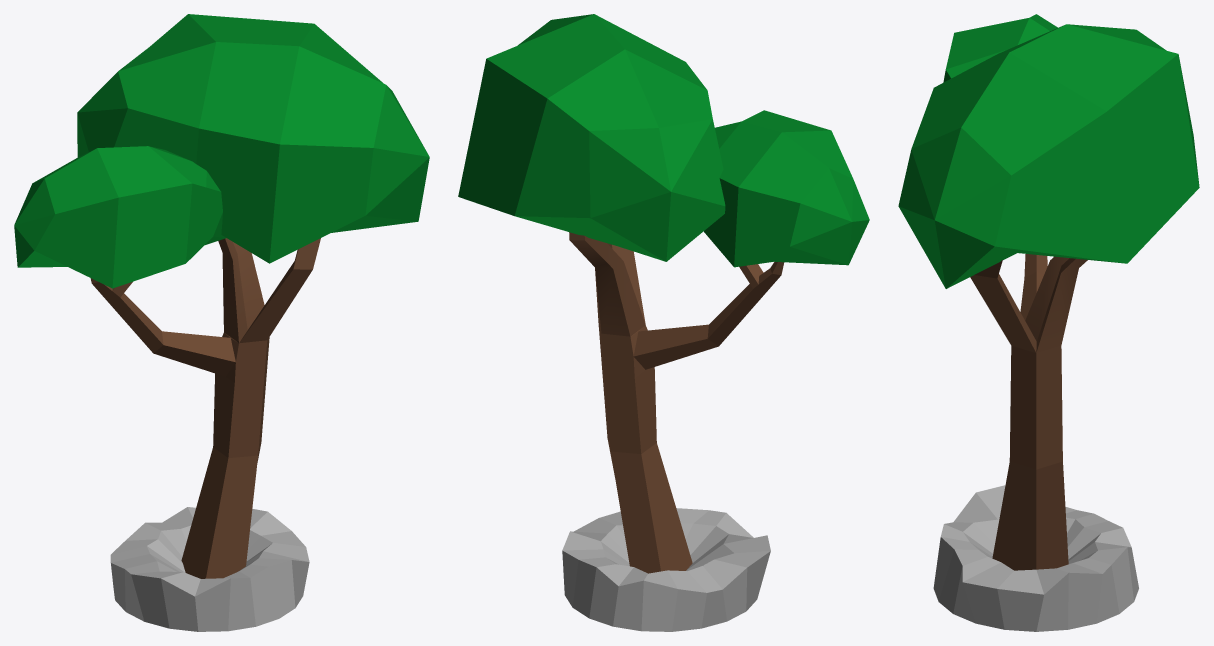
Rendered from tree.fbx.
The picture shows the model from 3 angles, left to right: view 1: azimuth 30°, elevation 25°; view 2: azimuth 150°, elevation 25°; view 3: azimuth 270°, elevation 25°; orthographic projection. The views are drawn at different scales.
Parts seen in each view (by area): view 1: leaves2, leaves1, branches, base1; view 2: leaves2, branches, leaves1, base1; view 3: leaves2, branches, base1, leaves1.
Part boxes in pixels (left/top/right/bottom): leaves2: left=77, top=14, right=429, bottom=263; leaves1: left=14, top=146, right=225, bottom=288; branches: left=90, top=238, right=320, bottom=578; base1: left=110, top=507, right=309, bottom=631; leaves2: left=458, top=14, right=725, bottom=261; branches: left=569, top=232, right=784, bottom=573; leaves1: left=704, top=110, right=869, bottom=267; base1: left=562, top=508, right=770, bottom=631; leaves2: left=898, top=24, right=1199, bottom=288; branches: left=970, top=254, right=1087, bottom=570; base1: left=933, top=485, right=1138, bottom=631; leaves1: left=943, top=14, right=1057, bottom=82.
Size of the model in its own units: 9.31 by 12.39 by 5.86.
